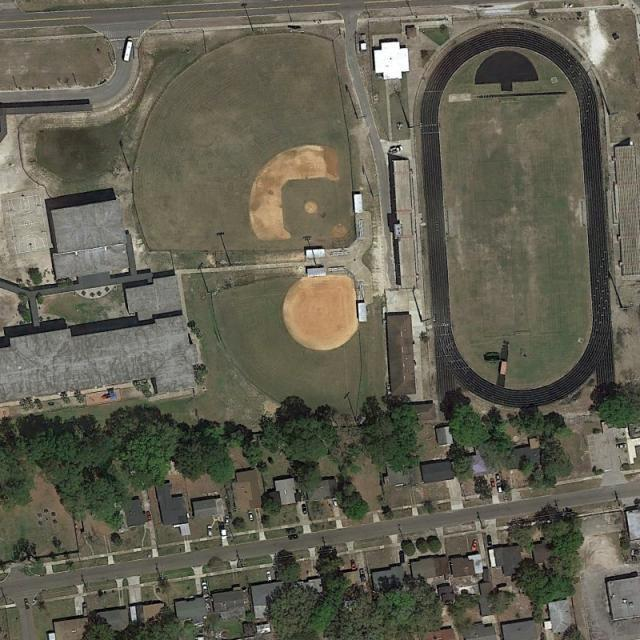vehicle: (122, 36, 134, 62), (247, 509, 255, 523), (470, 539, 478, 552), (615, 442, 628, 450), (202, 580, 208, 594), (82, 602, 88, 616), (360, 568, 366, 582), (391, 146, 403, 153), (207, 524, 213, 537), (286, 527, 297, 534), (266, 570, 272, 582), (274, 570, 280, 582), (350, 558, 356, 570), (486, 534, 492, 546), (224, 514, 230, 526), (146, 510, 152, 521), (288, 534, 298, 540), (490, 478, 496, 488), (24, 601, 30, 610), (495, 474, 501, 483), (302, 504, 307, 514), (332, 498, 338, 506), (498, 483, 502, 493)
